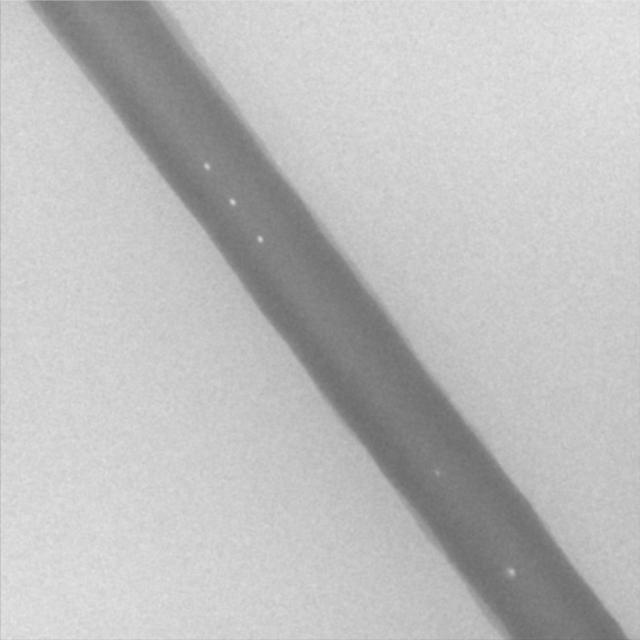air hole: (506, 564, 517, 579), (201, 158, 211, 173), (255, 232, 265, 246), (432, 466, 442, 479), (227, 194, 236, 206)
